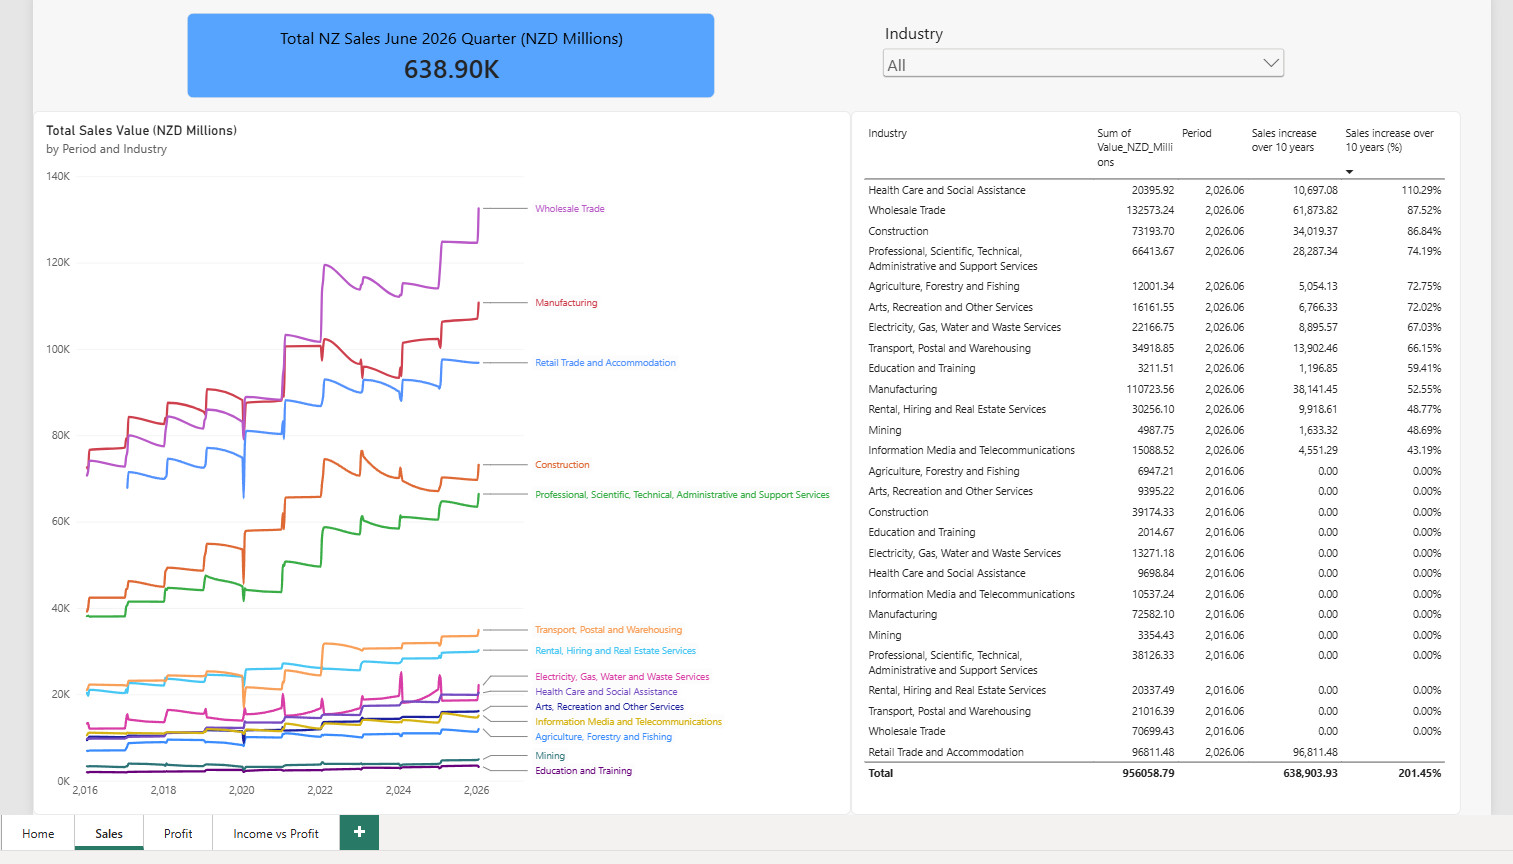

This screenshot's page, from the dashboard's own definition file:
{"tool":"powerbi","page":{"name":"Sales","canvas":[1920,1080],"ordinal":1},"visuals":[{"type":"lineChart","fields":{"Category":["business-financial-data-June-2026-quarter.Period"],"Series":["business-financial-data-June-2026-quarter.Industry"],"Y":["Sum(business-financial-data-June-2026-quarter.Value_NZD_Millions)"]},"box":[0,152.9,1077.1,927.1],"z":0},{"type":"cardVisual","fields":{"Data":["business-financial-data-June-2026-quarter.Total NZ Sales June 2026"]},"box":[202.4,23.4,695.7,112.1],"z":1000},{"type":"slicer","fields":{"Values":["business-financial-data-June-2026-quarter.Industry"]},"box":[1113.9,35.1,538.5,100.3],"z":2000},{"type":"tableEx","fields":{"Values":["business-financial-data-June-2026-quarter.Industry","Sum(business-financial-data-June-2026-quarter.Value_NZD_Millions)","business-financial-data-June-2026-quarter.Period","business-financial-data-June-2026-quarter.Sales increase over time","business-financial-data-June-2026-quarter.Sales increase over time %"]},"box":[1077.1,152.9,802.9,927.1],"z":3000}]}

Visuals, with their boxes on the page's 1920x1080 design canvas (x1, y1, x2, y2). These are canvas units, not pixel positions in the 1513x864 screenshot, which may show the page scaled, cropped or inside an application window:
lineChart - business-financial-data-June-2026-quarter.Period x business-financial-data-June-2026-quarter.Industry: bbox=(0, 153, 1077, 1080)
cardVisual - business-financial-data-June-2026-quarter.Total NZ Sales June 2026: bbox=(202, 23, 898, 136)
slicer - business-financial-data-June-2026-quarter.Industry: bbox=(1114, 35, 1652, 135)
tableEx - business-financial-data-June-2026-quarter.Industry x Sum(business-financial-data-June-2026-quarter.Value_NZD_Millions): bbox=(1077, 153, 1880, 1080)
